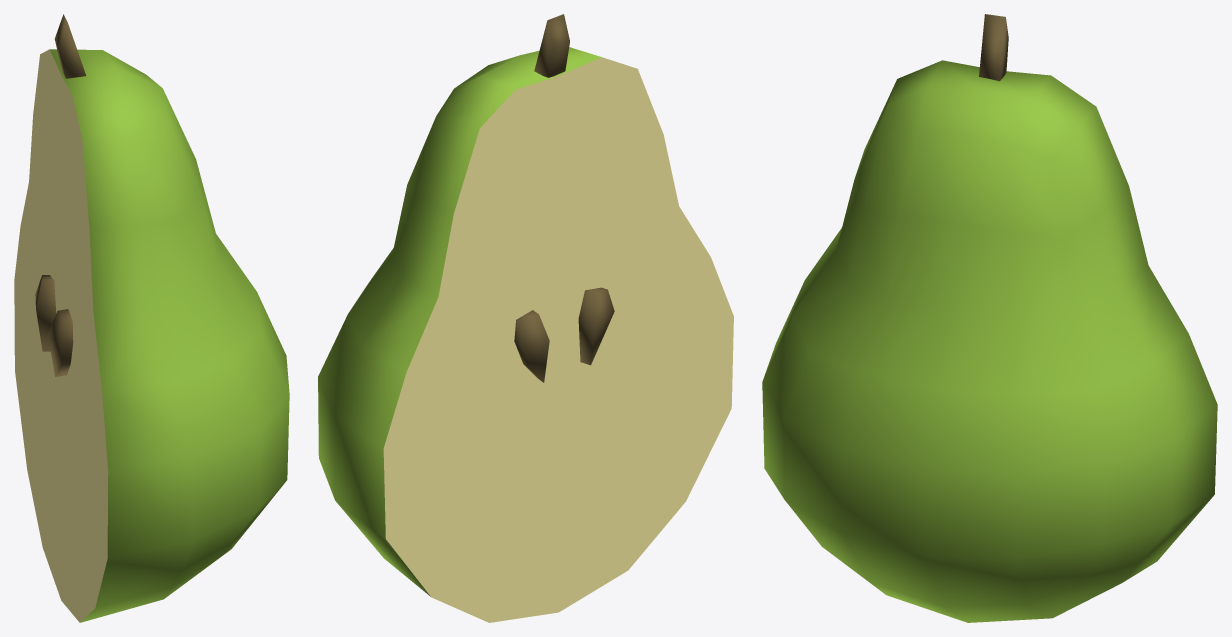
Rendered from pear-semi.fbx.
3 views of the same model, side by side, from view 1: azimuth 30°, elevation 25°; view 2: azimuth 150°, elevation 25°; view 3: azimuth 270°, elevation 25° (orthographic). The views are drawn at different scales.
Parts seen in each view (by area): view 1: pear-semi; view 2: pear-semi; view 3: pear-semi.
Part boxes in pixels (bbox=[...]): pear-semi: bbox=[14, 14, 289, 622]; pear-semi: bbox=[318, 14, 733, 622]; pear-semi: bbox=[762, 14, 1217, 622].
Size of the model in its own units: 111 by 234 by 164.
